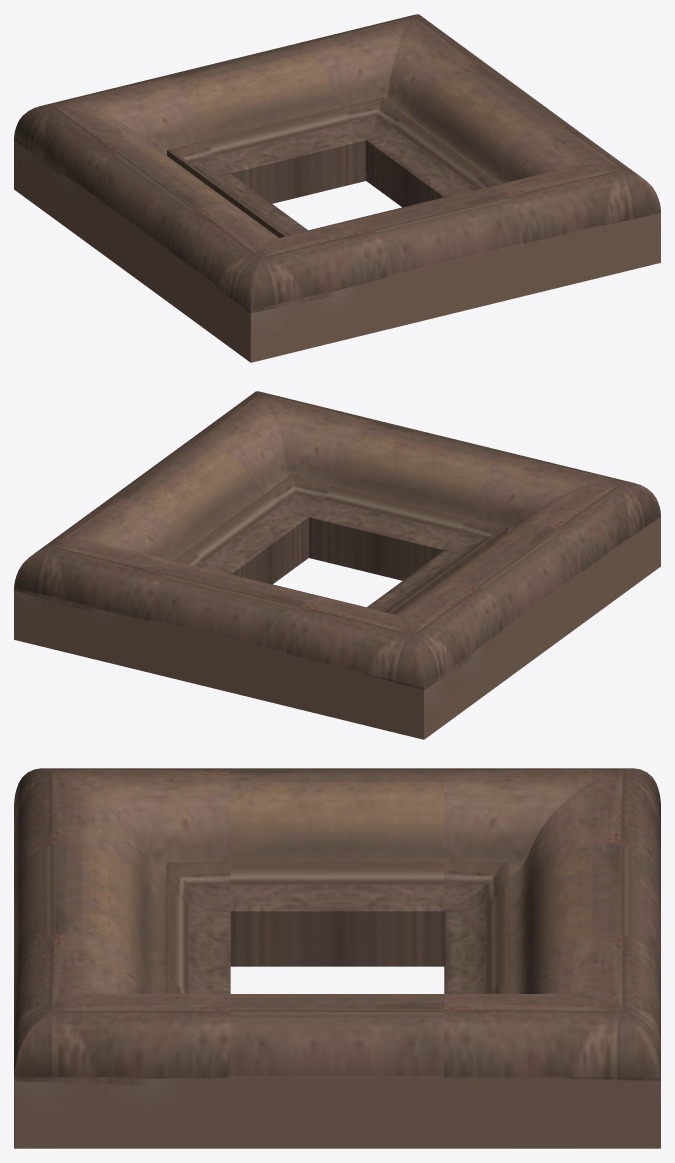
Rendered from website3-wood.FBX.
3 views of the same model, one above another, from view 1: azimuth 30°, elevation 25°; view 2: azimuth 150°, elevation 25°; view 3: azimuth 270°, elevation 25° (orthographic). The views are drawn at different scales.
Visible parts, largest first — view 1: website3wood_Bottom_L_Corner, website3wood_Top, website3wood_Bottom_R_Corner, website3wood_top_L_Corner, website3wood_Bottom, website3wood_R, website3wood_L, website3wood_top_R_Corner; view 2: website3wood_top_L_Corner, website3wood_Bottom, website3wood_top_R_Corner, website3wood_Bottom_L_Corner, website3wood_Top, website3wood_R, website3wood_L, website3wood_Bottom_R_Corner; view 3: website3wood_L, website3wood_top_R_Corner, website3wood_Bottom_R_Corner, website3wood_R, website3wood_top_L_Corner, website3wood_Bottom_L_Corner, website3wood_Bottom, website3wood_Top.
Boxes of the visible parts, x1,y1,x2,y2 form: website3wood_Bottom_L_Corner: (171, 204, 388, 362); website3wood_Top: (162, 43, 365, 203); website3wood_Bottom_R_Corner: (445, 121, 660, 295); website3wood_top_L_Corner: (14, 76, 230, 246); website3wood_Bottom: (310, 186, 523, 329); website3wood_R: (366, 64, 567, 207); website3wood_L: (93, 147, 307, 303); website3wood_top_R_Corner: (297, 14, 489, 180); website3wood_top_L_Corner: (286, 581, 503, 739); website3wood_Bottom: (309, 420, 512, 580); website3wood_top_R_Corner: (14, 498, 229, 672); website3wood_Bottom_L_Corner: (444, 453, 660, 623); website3wood_Top: (151, 563, 364, 706); website3wood_R: (107, 441, 308, 584); website3wood_L: (367, 524, 581, 680); website3wood_Bottom_R_Corner: (185, 391, 377, 557); website3wood_L: (230, 768, 443, 966); website3wood_top_R_Corner: (444, 933, 660, 1148); website3wood_Bottom_R_Corner: (14, 933, 230, 1148); website3wood_R: (231, 994, 444, 1148); website3wood_top_L_Corner: (444, 768, 660, 966); website3wood_Bottom_L_Corner: (14, 768, 230, 910); website3wood_Bottom: (14, 843, 230, 993); website3wood_Top: (444, 843, 660, 993).
Size of the model in its own units: 395 by 395 by 83.22.
Materials: 2 (2 with a texture image).
